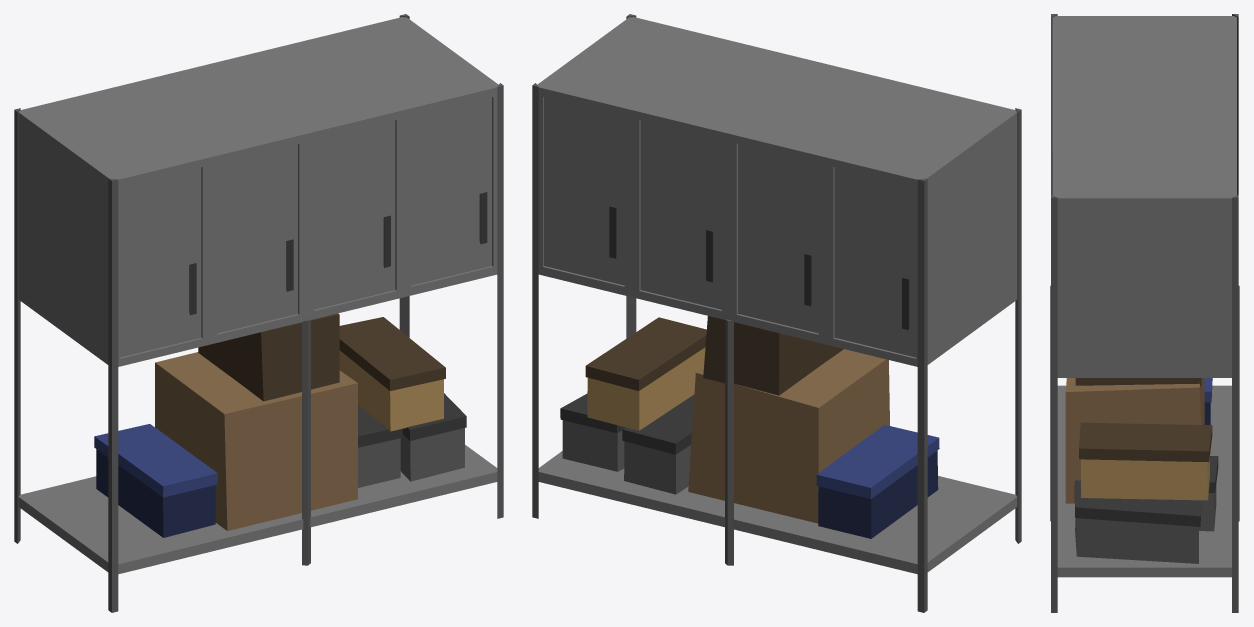
File: BoxShelves2.glb
3 renders of one model, left to right at view 1: azimuth 30°, elevation 25°; view 2: azimuth 150°, elevation 25°; view 3: azimuth 270°, elevation 25°, orthographic. The views are drawn at different scales.
Parts seen in each view (by area): view 1: Shelves2; view 2: Shelves2; view 3: Shelves2.
Boxes of the visible parts, bbox=[...] form: Shelves2: bbox=[14, 14, 503, 612]; Shelves2: bbox=[532, 14, 1021, 612]; Shelves2: bbox=[1050, 14, 1239, 612].
Size of the model in its own units: 2.14 by 2.25 by 0.9314.
1 material, 1 textured.
